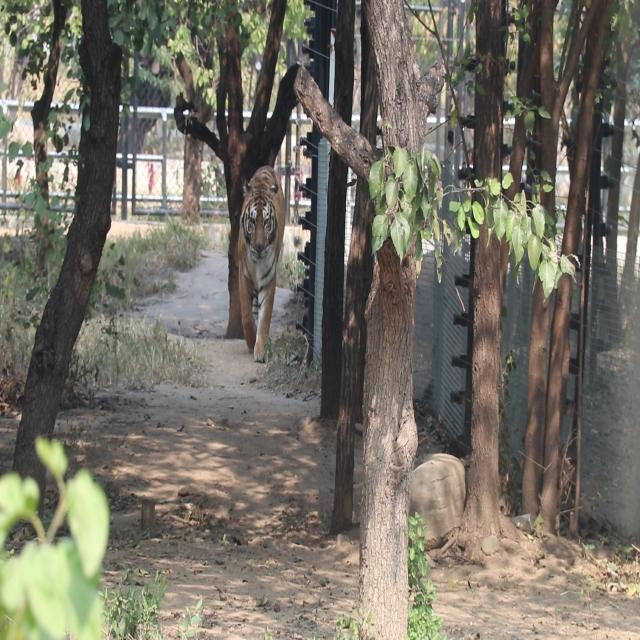Tiger: (226, 154, 317, 384)
